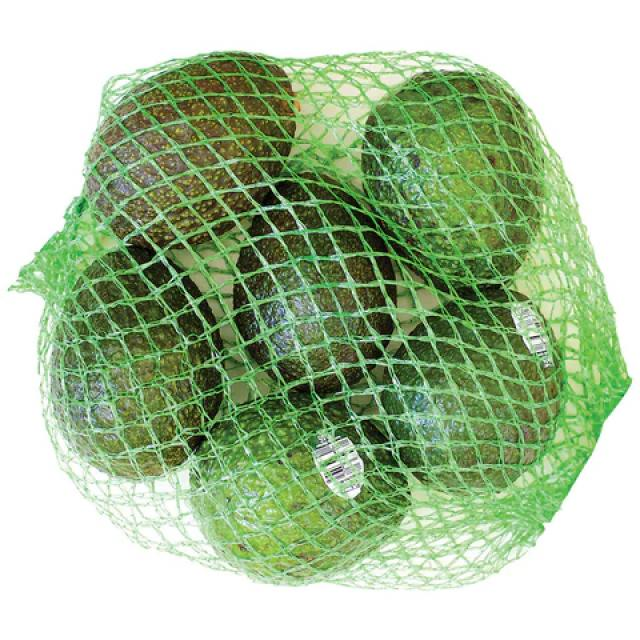avocado: (83, 49, 297, 244), (196, 396, 409, 580), (54, 250, 225, 476), (387, 287, 562, 496), (366, 75, 538, 282), (236, 171, 399, 388)
